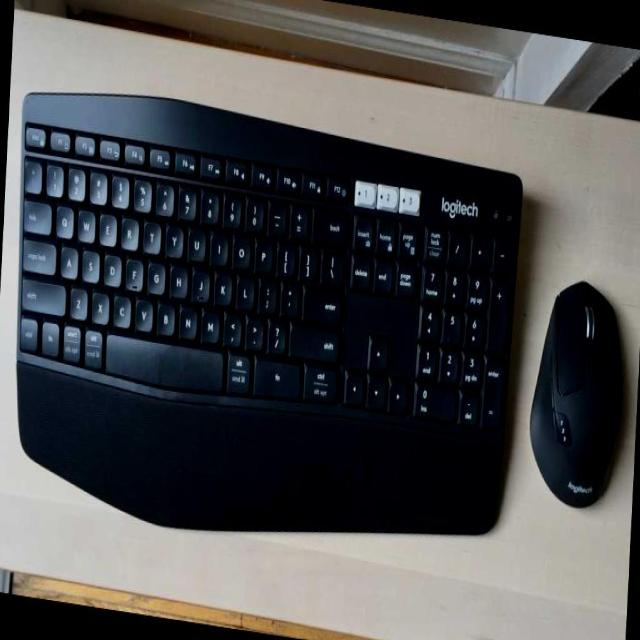keyboard: (16, 87, 512, 539)
mouse: (530, 283, 626, 509)
